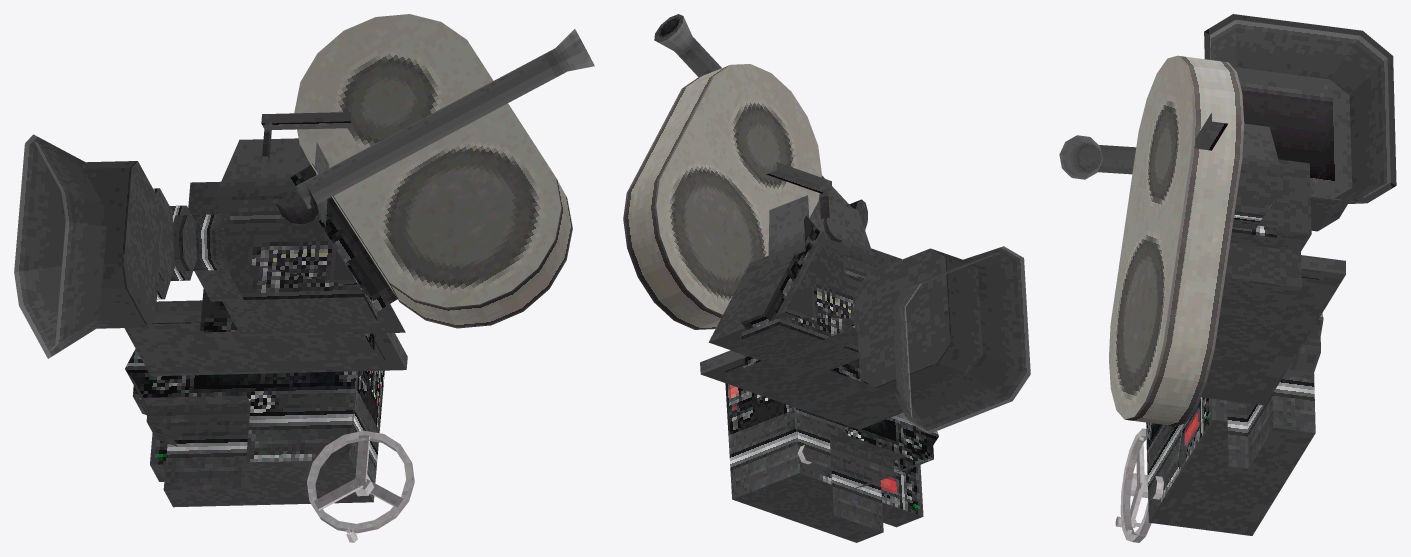
File: ps2_save-icons_stuntman-career.glb
3 renders of one model, left to right at view 1: azimuth 30°, elevation 25°; view 2: azimuth 150°, elevation 25°; view 3: azimuth 270°, elevation 25°, orthographic. The views are drawn at different scales.
Parts seen in each view (by area): view 1: career.ico; view 2: career.ico; view 3: career.ico.
Boxes of the visible parts, x1=… form: career.ico: x1=14, y1=14, x2=594, y2=542; career.ico: x1=623, y1=14, x2=1030, y2=542; career.ico: x1=1059, y1=14, x2=1396, y2=542.
Size of the model in its own units: 4.32 by 4.06 by 2.49.
Materials: 1 (1 with a texture image).
